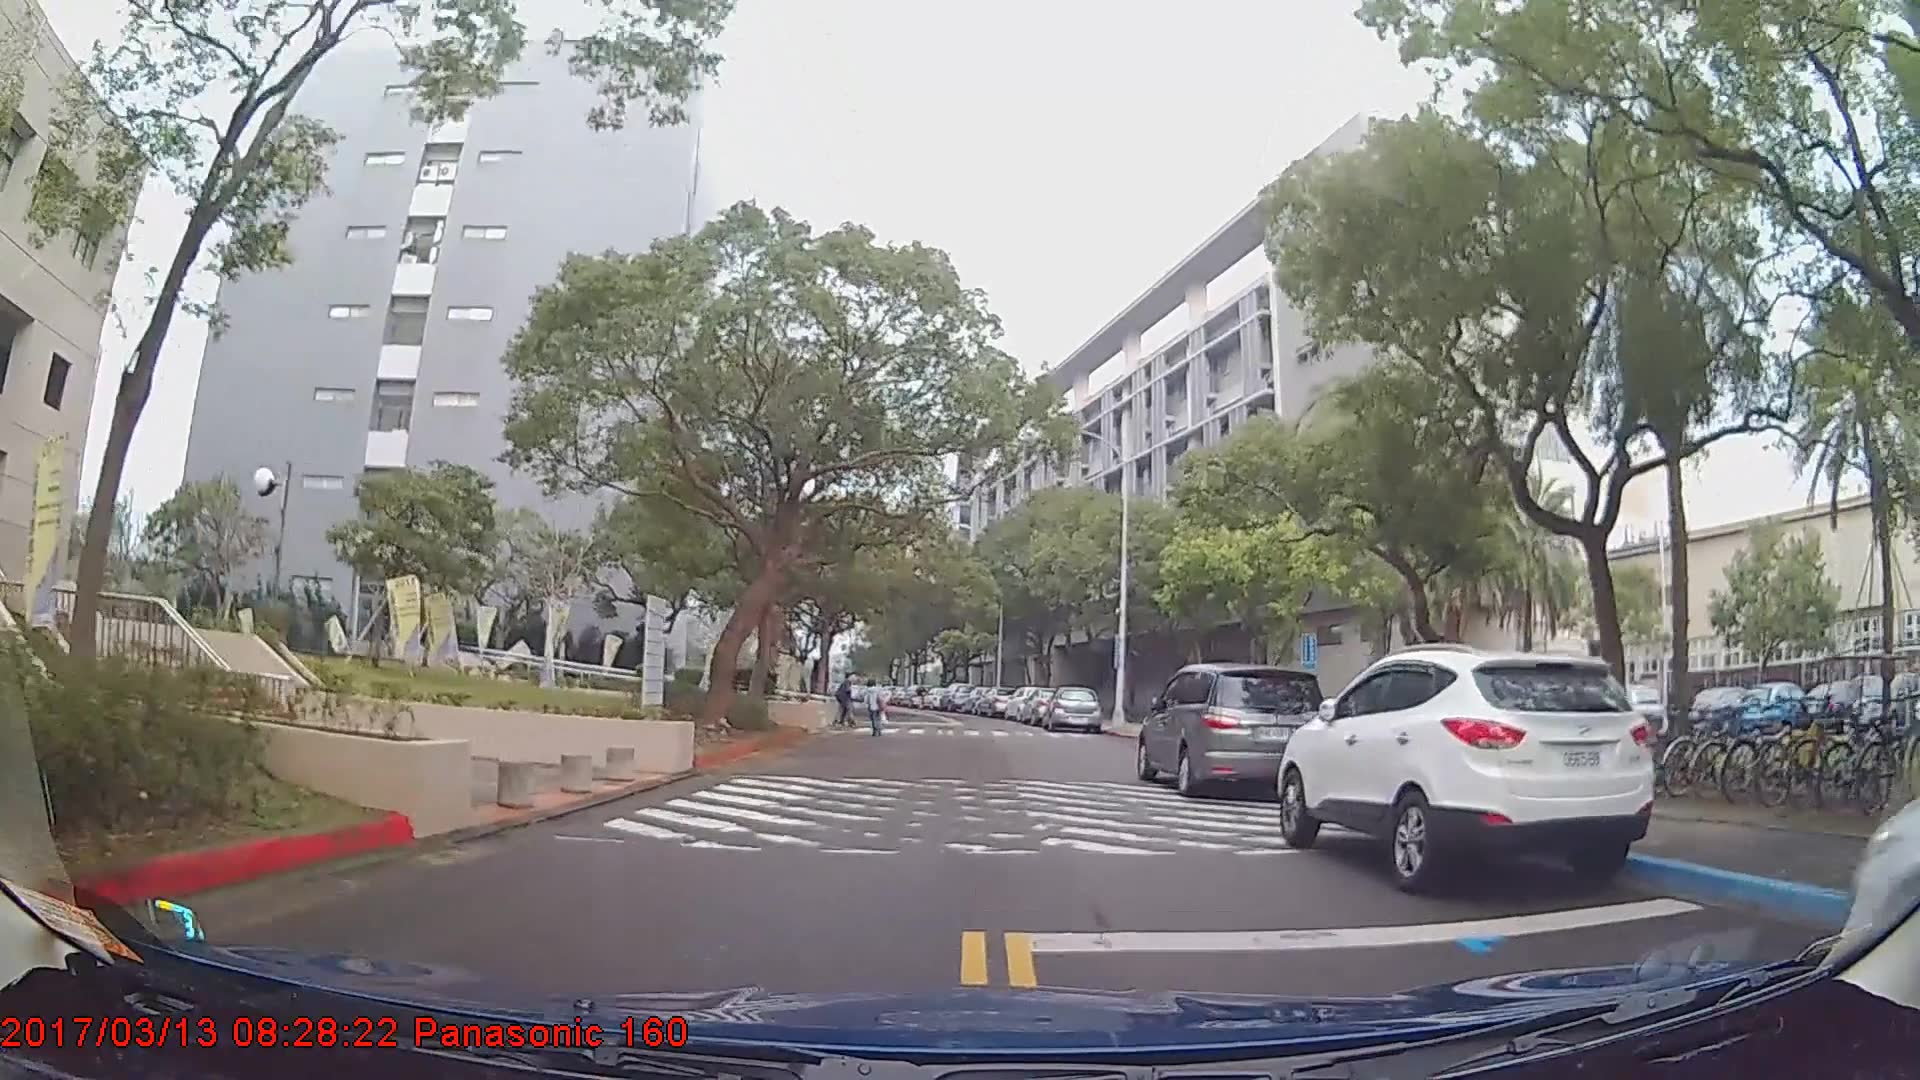pedestrian: (857, 681, 888, 740), (836, 672, 857, 727)
vehicle: (1271, 643, 1660, 892), (1135, 660, 1332, 800), (1795, 678, 1880, 735), (1682, 684, 1769, 737), (1733, 679, 1811, 736), (1046, 682, 1102, 734), (936, 680, 974, 711)
